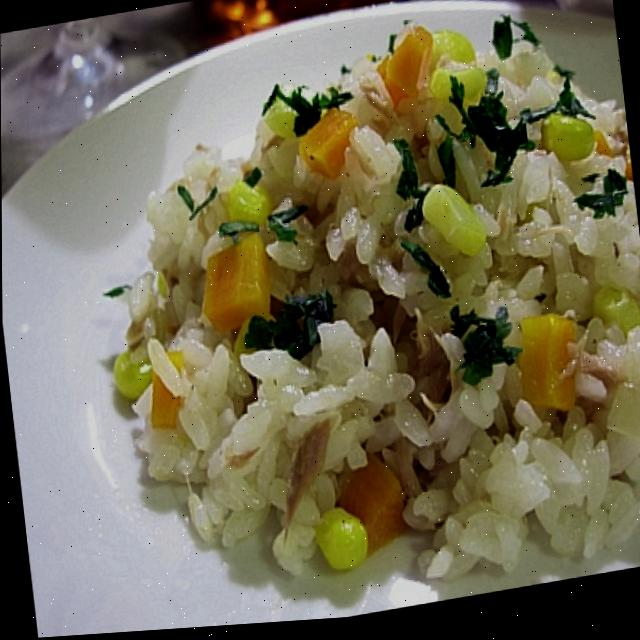米饭主食: (54, 0, 640, 637)
